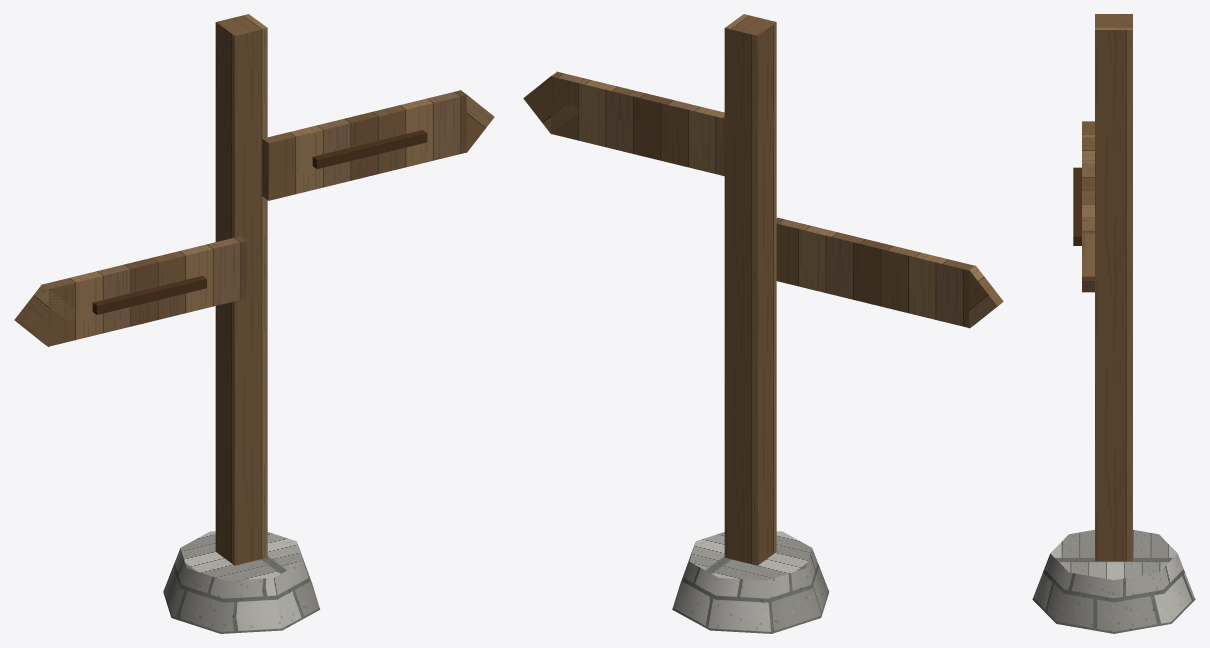
Rendered from signpost.glb.
3 views of the same model, side by side, from view 1: azimuth 30°, elevation 25°; view 2: azimuth 150°, elevation 25°; view 3: azimuth 270°, elevation 25° (orthographic).
Visible parts, largest first — view 1: signpost; view 2: signpost; view 3: signpost.
Boxes of the visible parts, <box> form: signpost: <box>14,14,494,633</box>; signpost: <box>523,14,1003,633</box>; signpost: <box>1032,14,1195,633</box>.
Size of the model in its own units: 2.15 by 2.5 by 0.64.
Materials: 3 (2 with a texture image).
